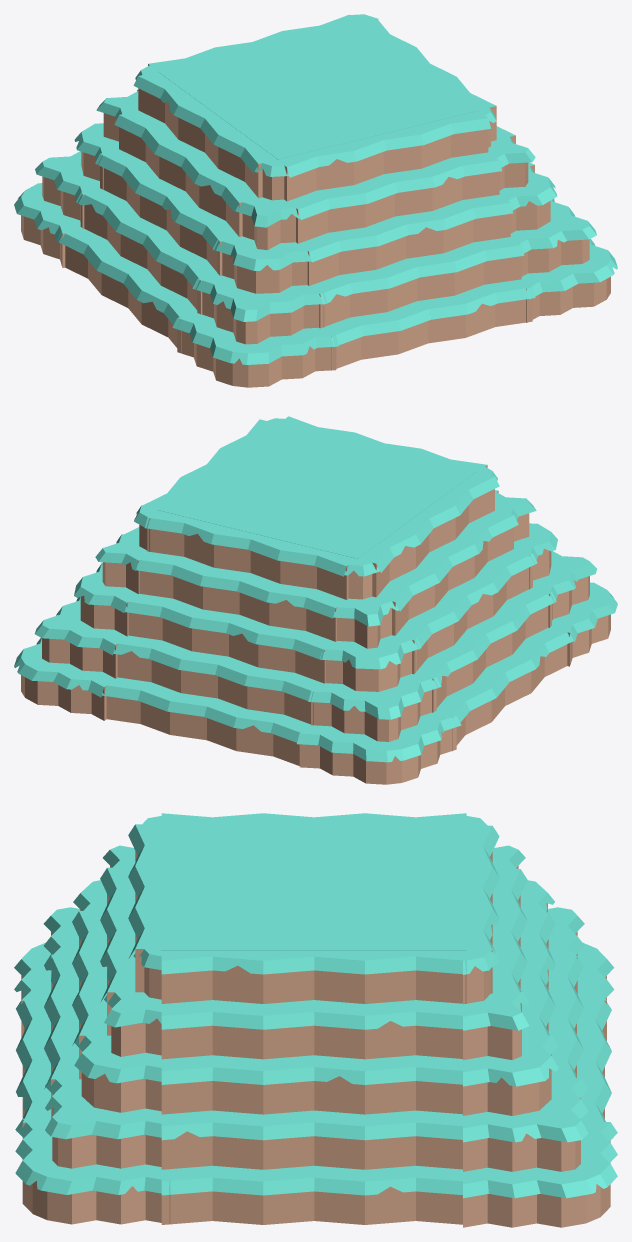
File: hill.glb
3 renders of one model, top to bottom at view 1: azimuth 30°, elevation 25°; view 2: azimuth 150°, elevation 25°; view 3: azimuth 270°, elevation 25°, orthographic. The views are drawn at different scales.
Visible parts, largest first — view 1: cliff_steps_rock; view 2: cliff_steps_rock; view 3: cliff_steps_rock.
Boxes of the visible parts, <box> form: cliff_steps_rock: <box>14,14,617,387</box>; cliff_steps_rock: <box>14,416,617,784</box>; cliff_steps_rock: <box>14,813,617,1227</box>.
Bounding box in the file's own units: 13.61 × 5.46 × 13.76.
